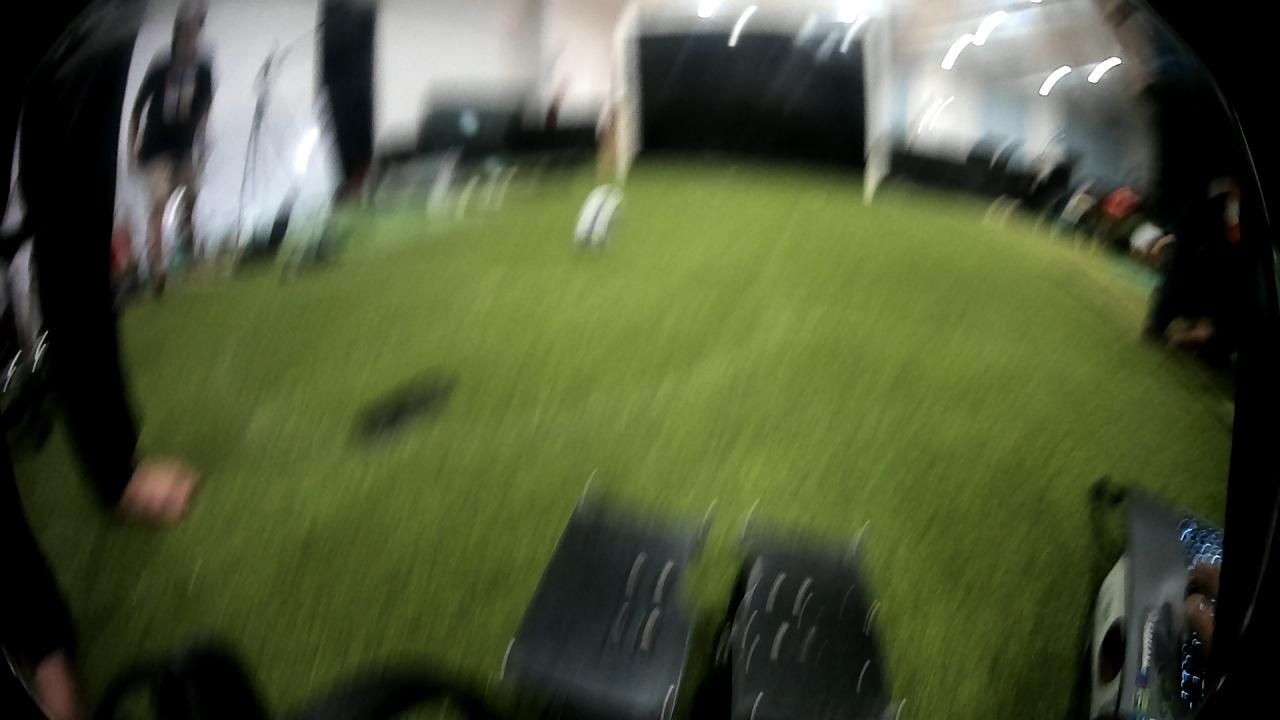ball: (571, 184, 622, 249)
